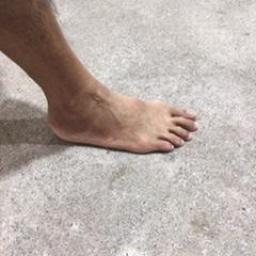Lateral View -Right Foot-: (30, 77, 201, 163)
